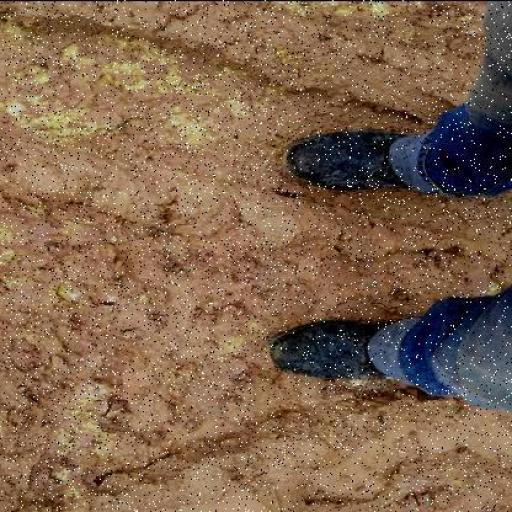safety_shoe: (270, 319, 388, 379), (287, 132, 399, 193)
